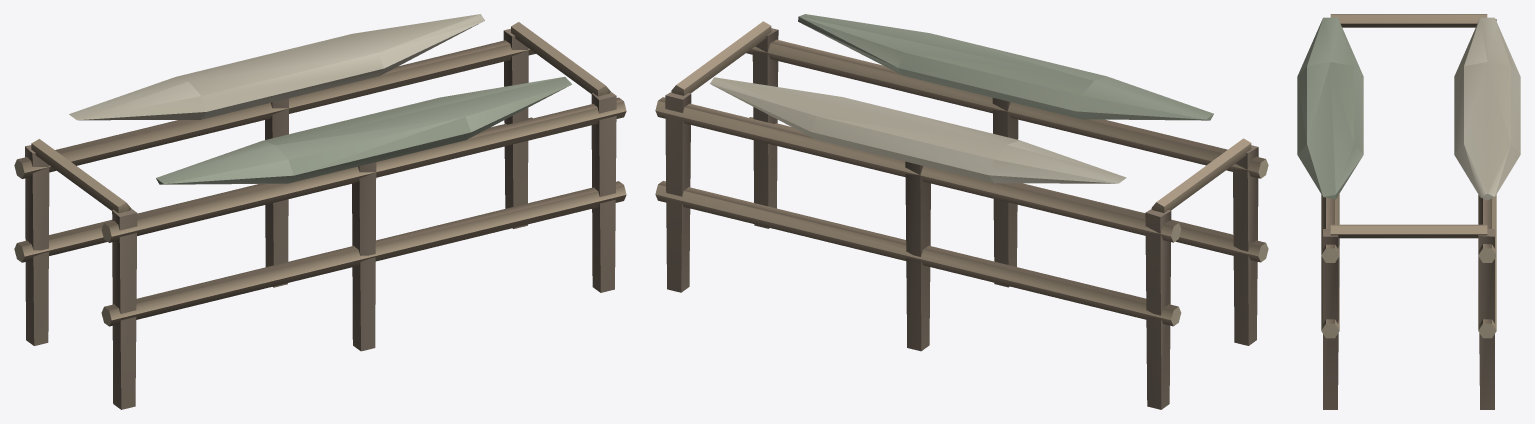
File: rack.lod2.glb
3 renders of one model, left to right at view 1: azimuth 30°, elevation 25°; view 2: azimuth 150°, elevation 25°; view 3: azimuth 270°, elevation 25°, orthographic. The views are drawn at different scales.
Size of the model in its own units: 5.8 by 2.4 by 2.42.
